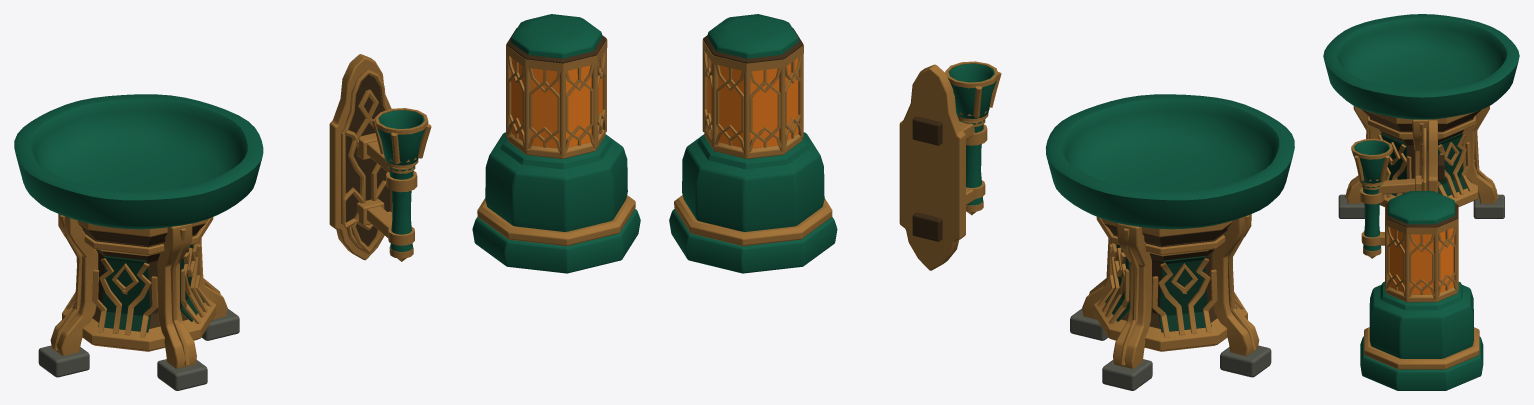
File: temple-props-BNS-LzdT.glb
3 views of the same model, side by side, from view 1: azimuth 30°, elevation 25°; view 2: azimuth 150°, elevation 25°; view 3: azimuth 270°, elevation 25° (orthographic). The views are drawn at different scales.
Parts seen in each view (by area): view 1: Brazier__Emerald jade, Lantern__Emerald jade, Brazier__Antique gold edging, Sconce__Antique gold edging, Lantern__Antique gold edging, Lantern__Amber chamber panes, Brazier__Worn stone foot pads, Sconce__Emerald jade, Sconce__Recessed aged bronze, Brazier__Carved jade recesses, Brazier__Recessed aged bronze, Lantern__Recessed aged bronze; view 2: Brazier__Emerald jade, Lantern__Emerald jade, Brazier__Antique gold edging, Sconce__Antique gold edging, Lantern__Antique gold edging, Lantern__Amber chamber panes, Brazier__Worn stone foot pads, Brazier__Carved jade recesses, Sconce__Emerald jade, Brazier__Recessed aged bronze, Sconce__Recessed aged bronze, Lantern__Recessed aged bronze; view 3: Brazier__Emerald jade, Lantern__Emerald jade, Brazier__Antique gold edging, Lantern__Antique gold edging, Sconce__Antique gold edging, Lantern__Amber chamber panes, Sconce__Emerald jade, Brazier__Carved jade recesses, Brazier__Worn stone foot pads, Brazier__Recessed aged bronze, Lantern__Recessed aged bronze, Sconce__Recessed aged bronze.
Boxes of the visible parts, left/top/right/bottom form: Brazier__Emerald jade: left=14, top=94, right=263, bottom=229; Lantern__Emerald jade: left=472, top=14, right=640, bottom=273; Brazier__Antique gold edging: left=50, top=214, right=227, bottom=368; Sconce__Antique gold edging: left=329, top=54, right=431, bottom=261; Lantern__Antique gold edging: left=477, top=39, right=635, bottom=246; Lantern__Amber chamber panes: left=511, top=55, right=602, bottom=148; Brazier__Worn stone foot pads: left=38, top=308, right=239, bottom=390; Sconce__Emerald jade: left=377, top=110, right=425, bottom=251; Sconce__Recessed aged bronze: left=345, top=74, right=390, bottom=246; Brazier__Carved jade recesses: left=72, top=244, right=204, bottom=332; Brazier__Recessed aged bronze: left=78, top=223, right=205, bottom=328; Lantern__Recessed aged bronze: left=506, top=28, right=606, bottom=63; Brazier__Emerald jade: left=1045, top=94, right=1294, bottom=229; Lantern__Emerald jade: left=669, top=14, right=837, bottom=273; Brazier__Antique gold edging: left=1082, top=214, right=1259, bottom=368; Sconce__Antique gold edging: left=899, top=61, right=1001, bottom=270; Lantern__Antique gold edging: left=674, top=39, right=832, bottom=246; Lantern__Amber chamber panes: left=707, top=56, right=798, bottom=148; Brazier__Worn stone foot pads: left=1070, top=308, right=1271, bottom=390; Brazier__Carved jade recesses: left=1105, top=244, right=1237, bottom=332; Sconce__Emerald jade: left=948, top=63, right=996, bottom=205; Brazier__Recessed aged bronze: left=1104, top=223, right=1231, bottom=328; Sconce__Recessed aged bronze: left=912, top=116, right=942, bottom=241; Lantern__Recessed aged bronze: left=703, top=27, right=803, bottom=63; Brazier__Emerald jade: left=1323, top=14, right=1519, bottom=119; Lantern__Emerald jade: left=1360, top=191, right=1483, bottom=390; Brazier__Antique gold edging: left=1345, top=106, right=1498, bottom=206; Lantern__Antique gold edging: left=1364, top=206, right=1479, bottom=369; Sconce__Antique gold edging: left=1351, top=120, right=1437, bottom=258; Lantern__Amber chamber panes: left=1389, top=227, right=1454, bottom=294; Sconce__Emerald jade: left=1353, top=140, right=1391, bottom=250; Brazier__Carved jade recesses: left=1380, top=133, right=1466, bottom=196; Brazier__Worn stone foot pads: left=1338, top=194, right=1504, bottom=218; Brazier__Recessed aged bronze: left=1362, top=109, right=1481, bottom=178; Lantern__Recessed aged bronze: left=1385, top=204, right=1458, bottom=227; Sconce__Recessed aged bronze: left=1426, top=130, right=1444, bottom=190.
Bounding box in the file's own units: 3.85 × 1.44 × 1.41.
